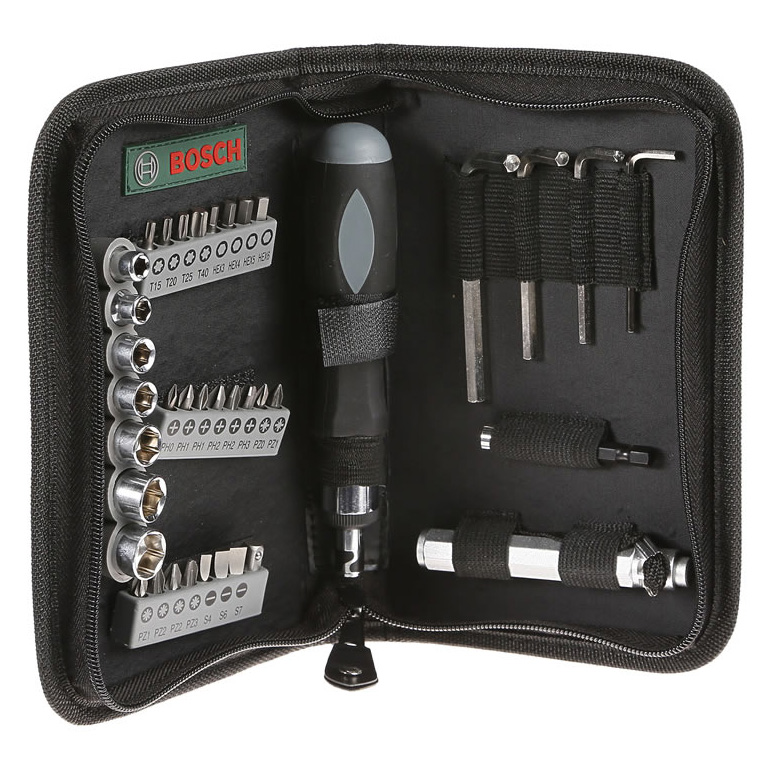Bosch: (163, 134, 251, 180)
